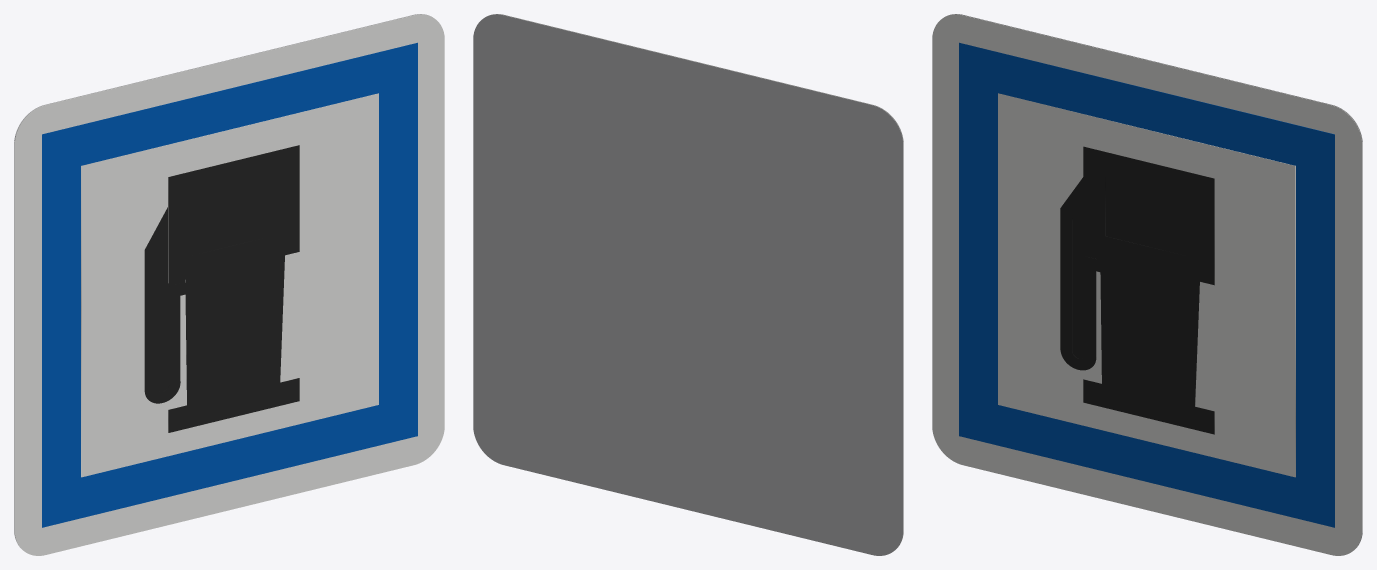
3 views of the same model, side by side, from view 1: azimuth 30°, elevation 25°; view 2: azimuth 150°, elevation 25°; view 3: azimuth 330°, elevation 25° (orthographic).
Visible parts, largest first — view 1: CE15a_p02, CE15a_p01, CE15a_p00, CE15a_p09, CE15a_p08, CE15a_p06, CE15a_p05, CE15a_dos; view 2: CE15a_dos, CE15a_p00; view 3: CE15a_p02, CE15a_p01, CE15a_p00, CE15a_p09, CE15a_p08, CE15a_p06, CE15a_p05, CE15a_dos.
Part boxes in pixels (x1,y1,x2,y2): CE15a_p02: (81, 93, 378, 477); CE15a_p01: (42, 42, 417, 527); CE15a_p00: (14, 14, 444, 555); CE15a_p09: (168, 145, 299, 432); CE15a_p08: (190, 172, 278, 255); CE15a_p06: (144, 207, 180, 403); CE15a_p05: (156, 244, 184, 391); CE15a_dos: (14, 14, 431, 547); CE15a_dos: (473, 14, 903, 555); CE15a_p00: (486, 14, 903, 547); CE15a_p02: (998, 93, 1295, 477); CE15a_p01: (959, 42, 1334, 527); CE15a_p00: (932, 14, 1362, 555); CE15a_p09: (1083, 146, 1214, 434); CE15a_p08: (1105, 174, 1192, 257); CE15a_p06: (1060, 177, 1096, 370); CE15a_p05: (1072, 214, 1100, 358); CE15a_dos: (945, 14, 1362, 547).
Size of the model in its own units: 0.7 by 0.6999 by 0.0055.
